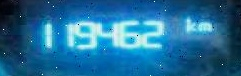1: (38, 20, 55, 49), (60, 20, 73, 47)
2: (140, 18, 163, 47)
4: (95, 21, 116, 47)
6: (118, 19, 140, 49)
9: (71, 19, 95, 49)
X: (182, 15, 193, 32), (195, 20, 211, 31)
